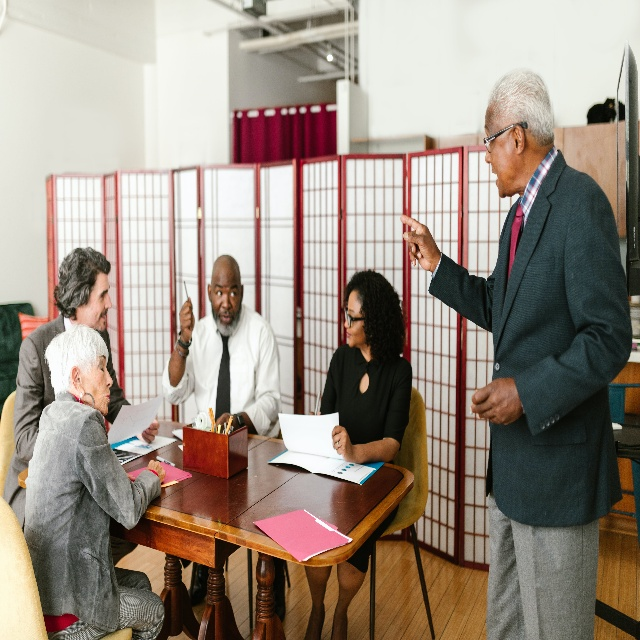Gafas: (483, 121, 527, 152), (344, 306, 366, 325)
Sin_guantes: (471, 380, 521, 428), (399, 213, 437, 271), (332, 425, 352, 461), (179, 298, 195, 340), (148, 459, 166, 484), (215, 410, 237, 430), (141, 420, 160, 440)
